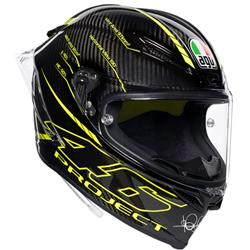with_helmet: (14, 1, 237, 249)
